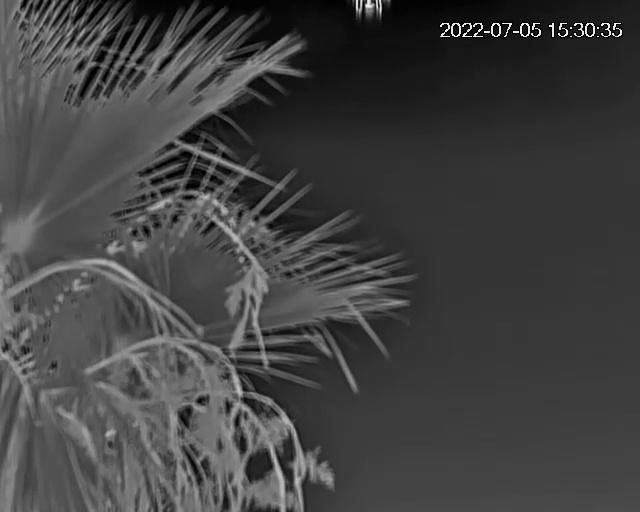DJI-Phantom: (348, 0, 396, 19)
